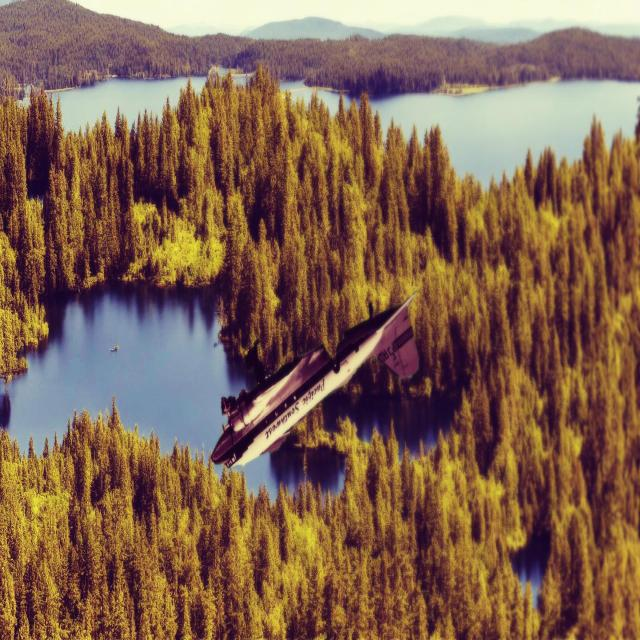airplane: (210, 289, 420, 470)
